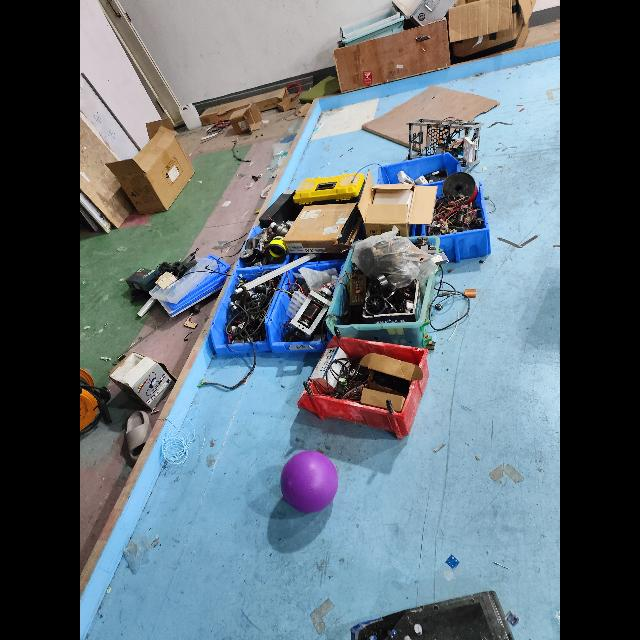P: (280, 450, 338, 512)
